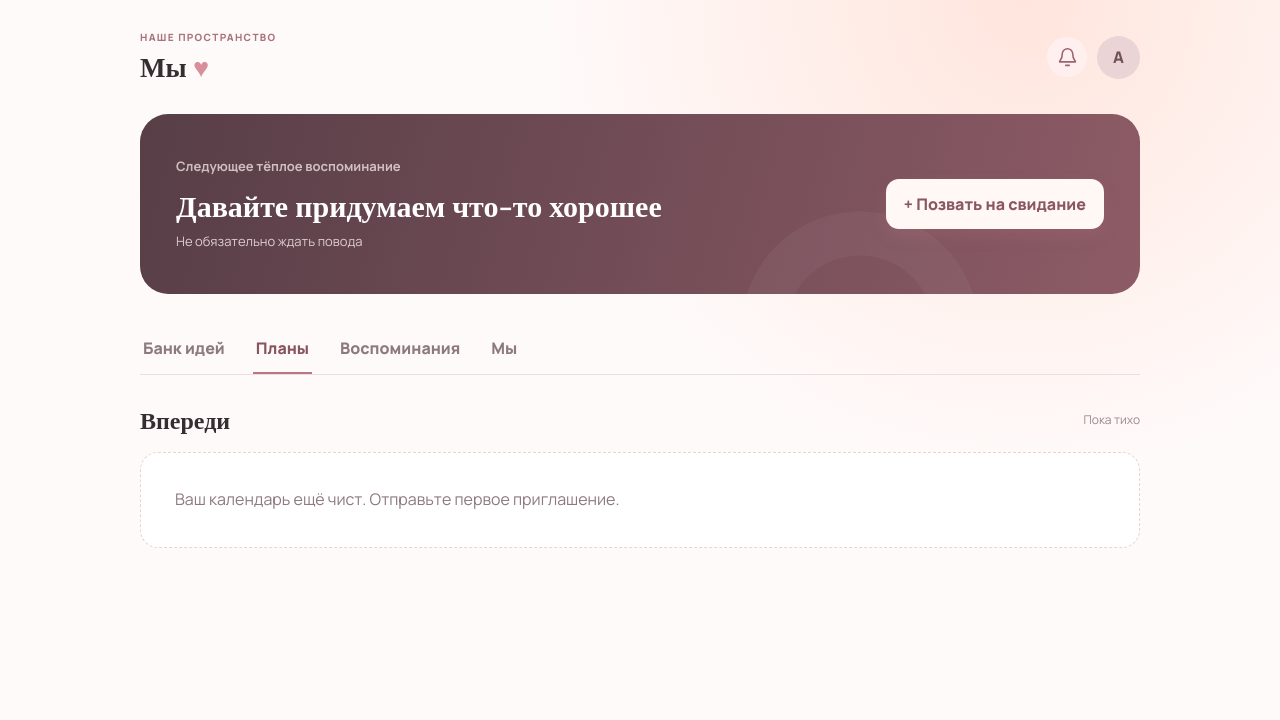
Test: date details › opens a completed date from memories and shows its photos in details
Click the button "Воспоминания": (400, 349) 337,324 -> 463,374
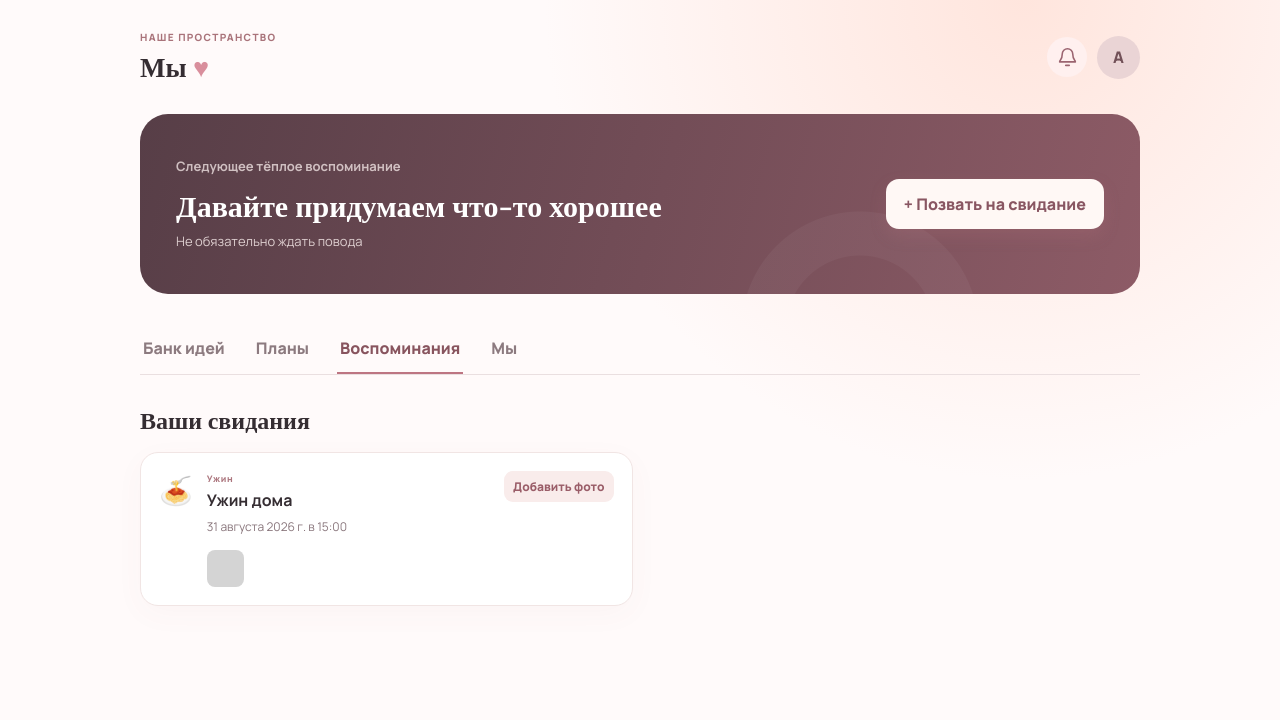
Check: the button "Добавить фото" is shown, box 504,471 -> 614,502
Click the button with aria-label "Открыть детали: Ужин дома": (250, 500) 207,471 -> 490,542
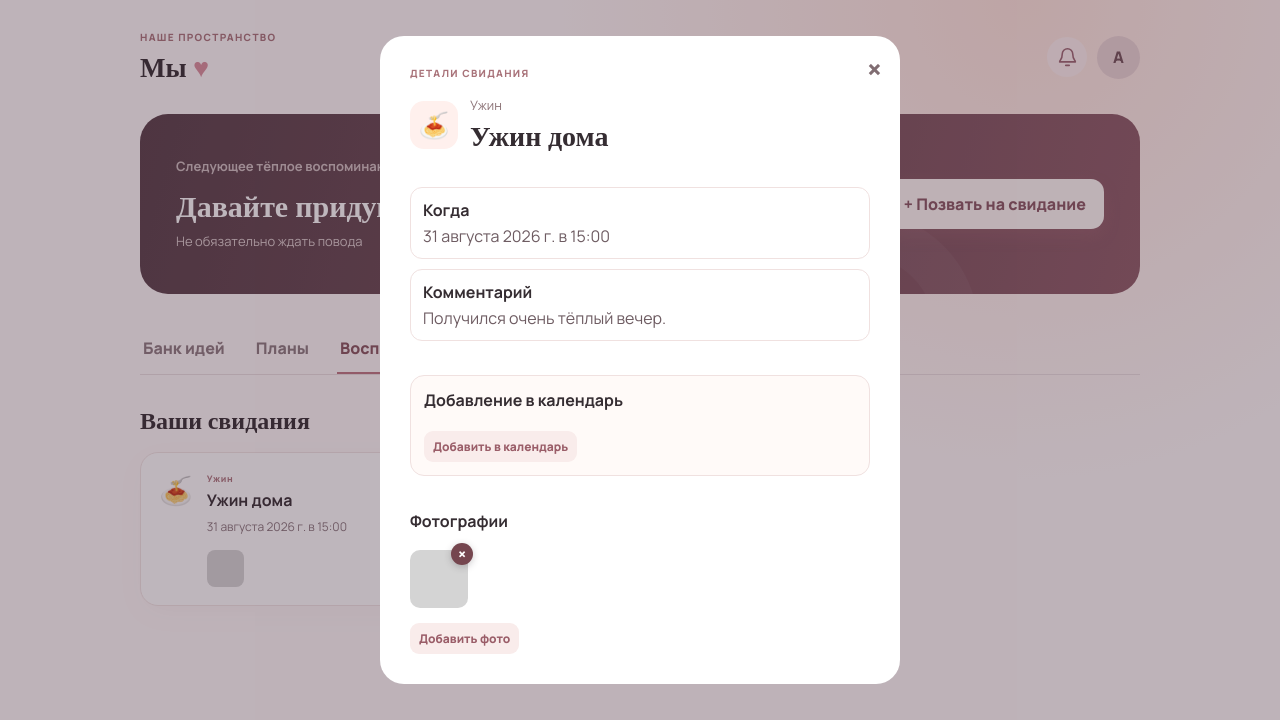
Check: the dialog "ДЕТАЛИ СВИДАНИЯ" is shown, box 380,36 -> 900,684
Check: the button "Добавить фото" is shown, box 410,623 -> 519,654
